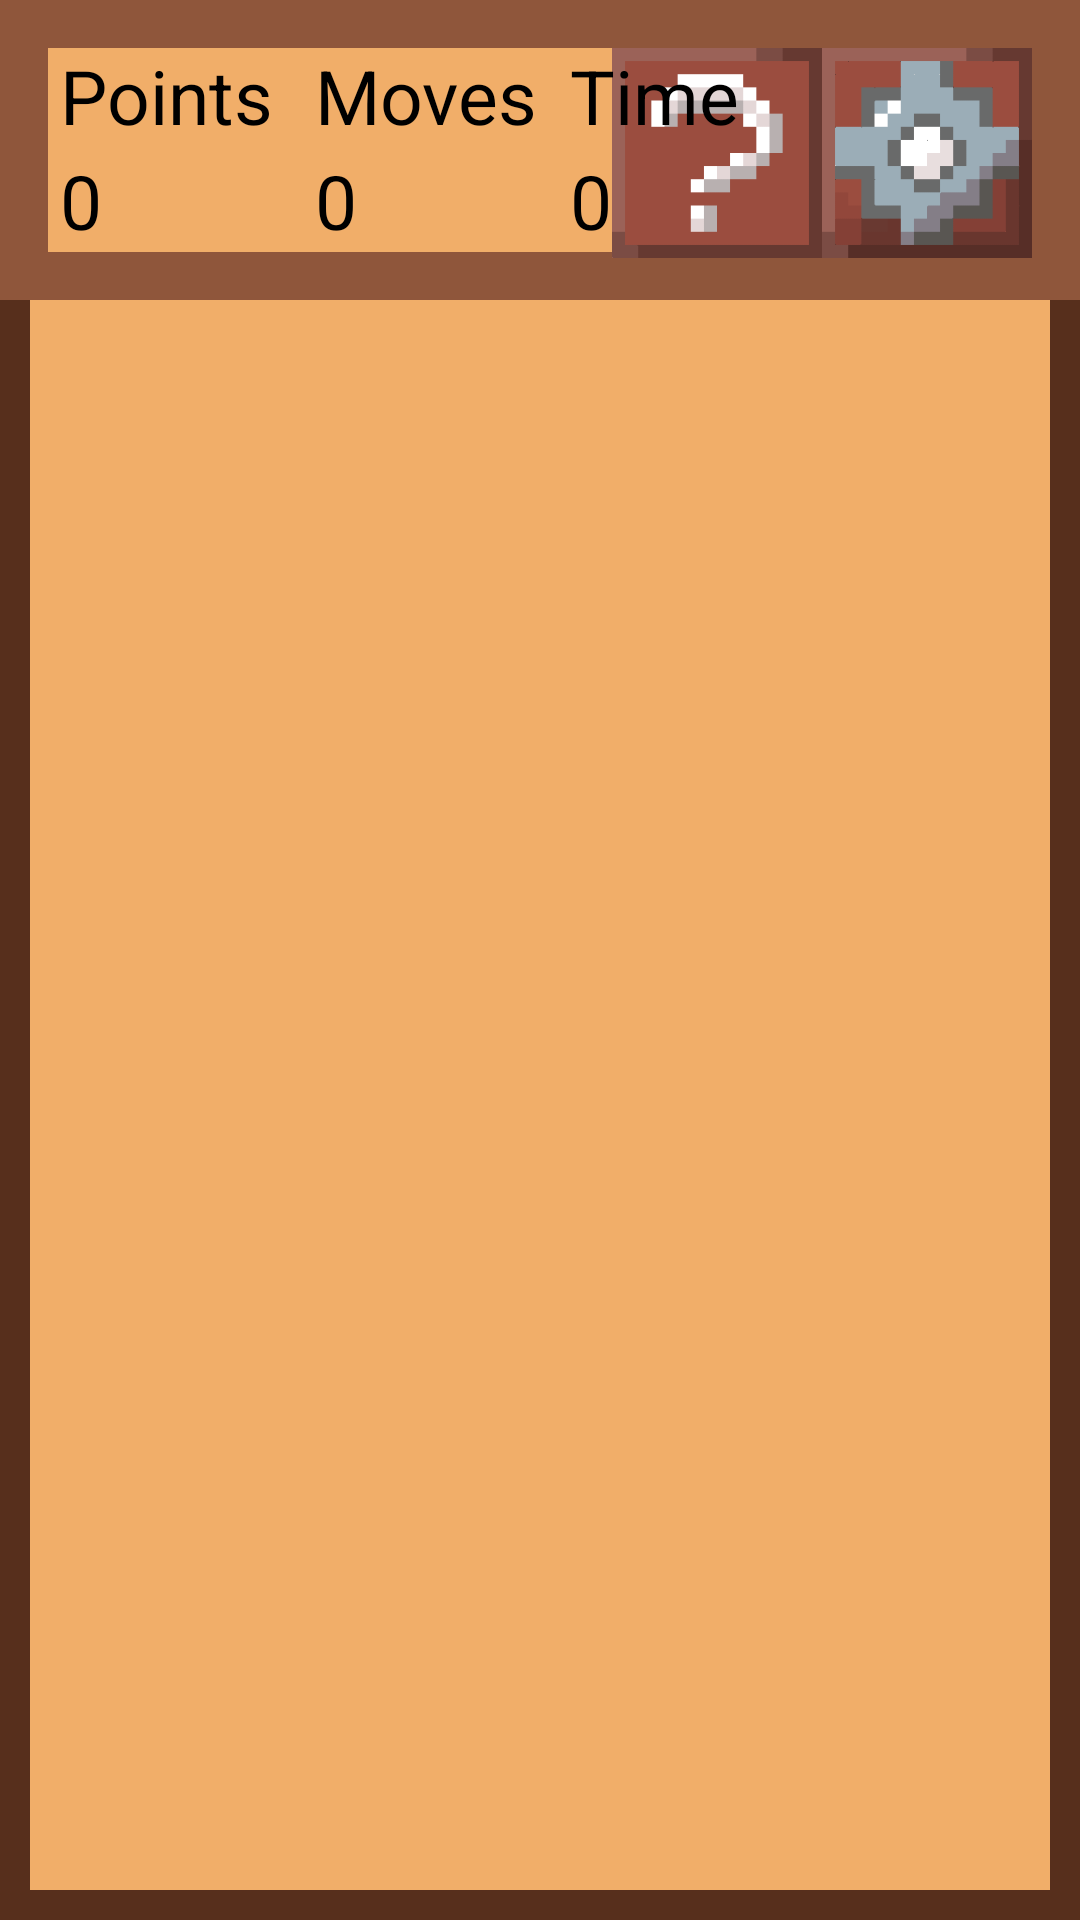

Icon click points for this 1080×1920 phone screenshot, format (x,y):
settings: (927,153)
